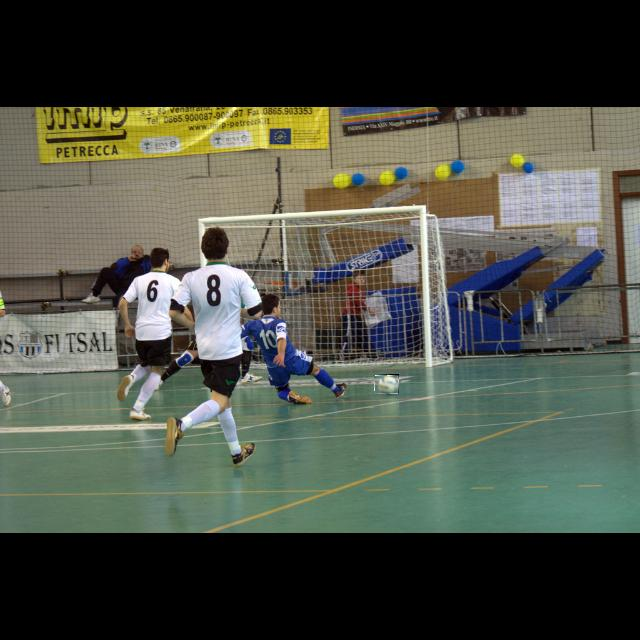Football: (375, 374, 399, 394)
